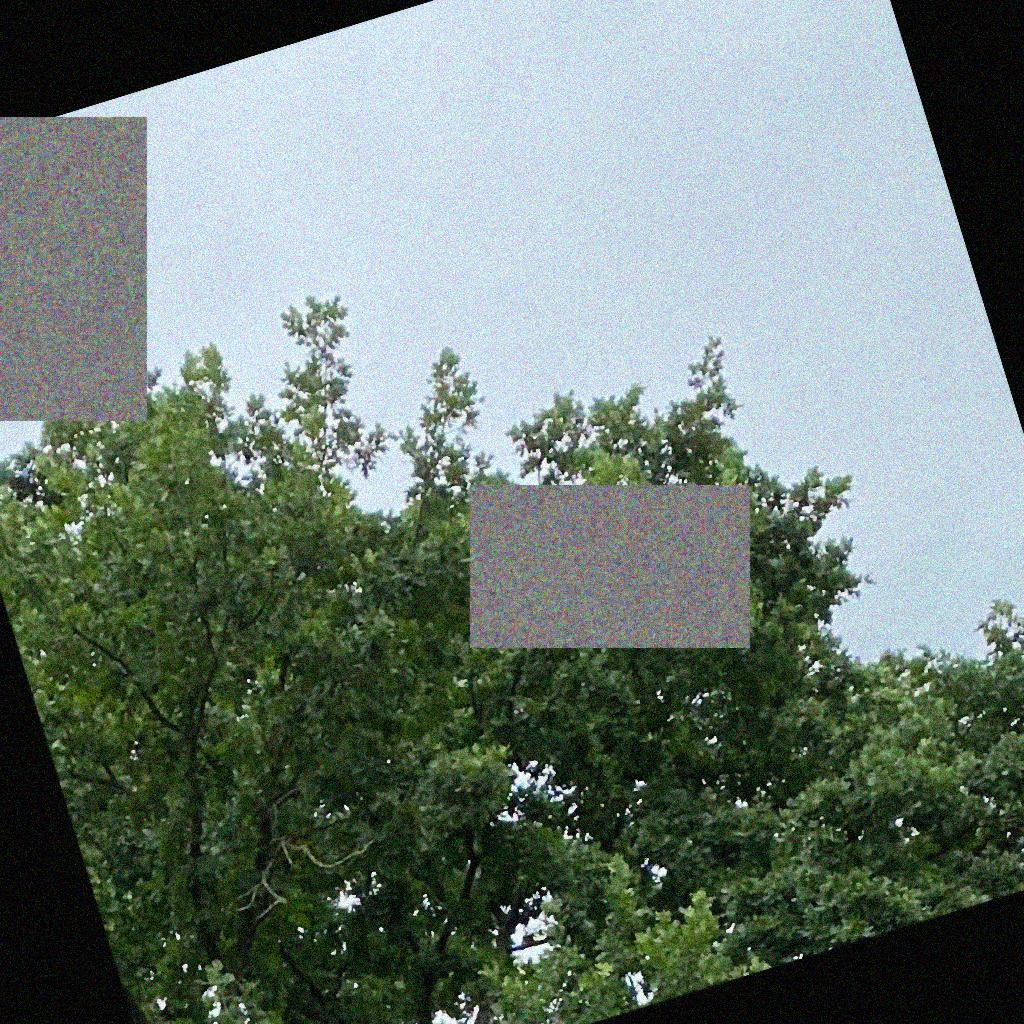tree: (1, 292, 1023, 1023)
